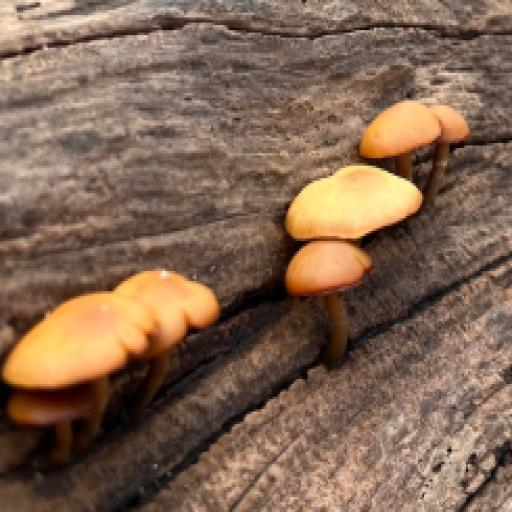mushroom: (275, 76, 473, 344), (4, 261, 226, 442)
